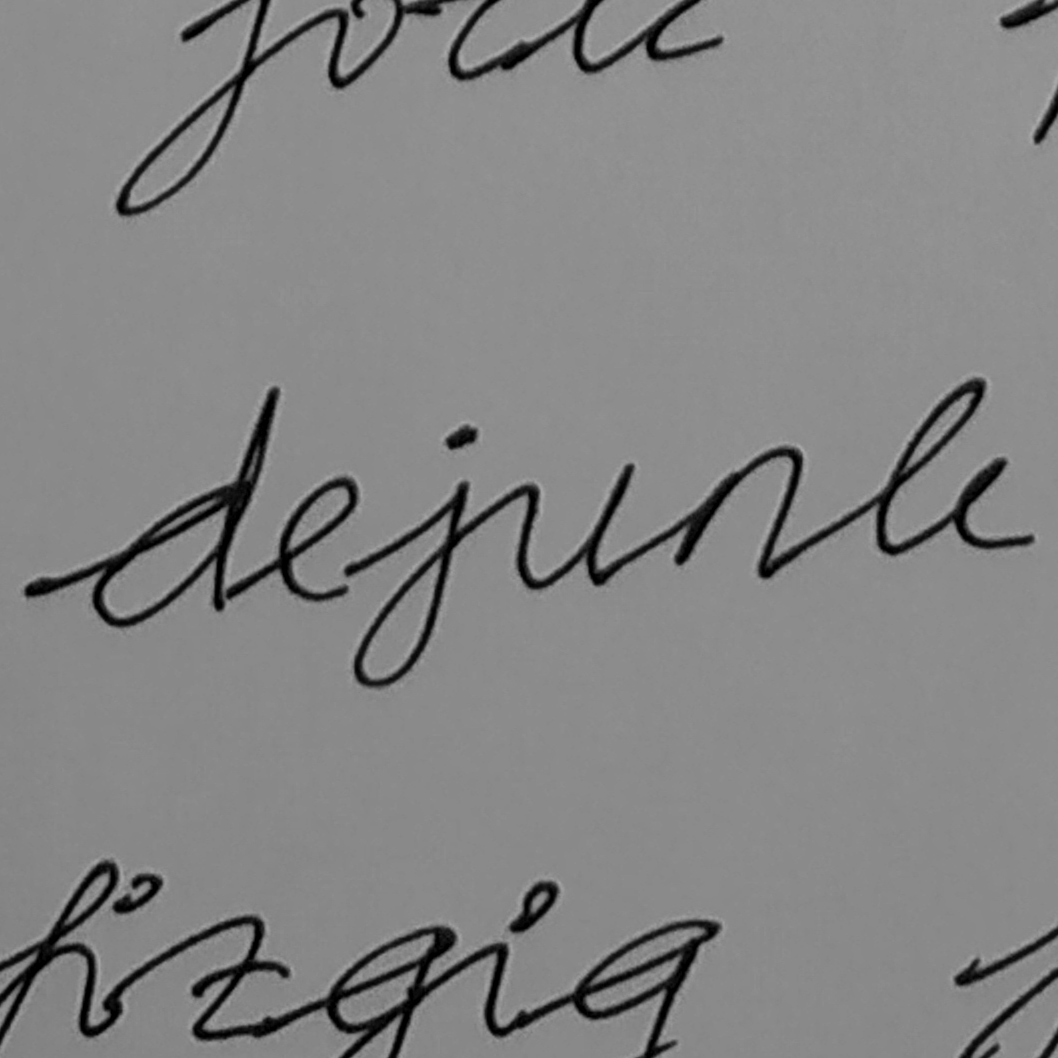d: (87, 382, 282, 633)
e: (275, 470, 366, 608)
j: (347, 418, 483, 695)
k: (871, 373, 1039, 560)
n: (670, 440, 808, 584)
u: (510, 459, 637, 595)
